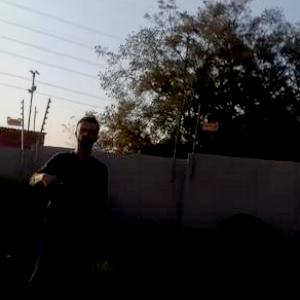follow: (17, 113, 112, 299)
